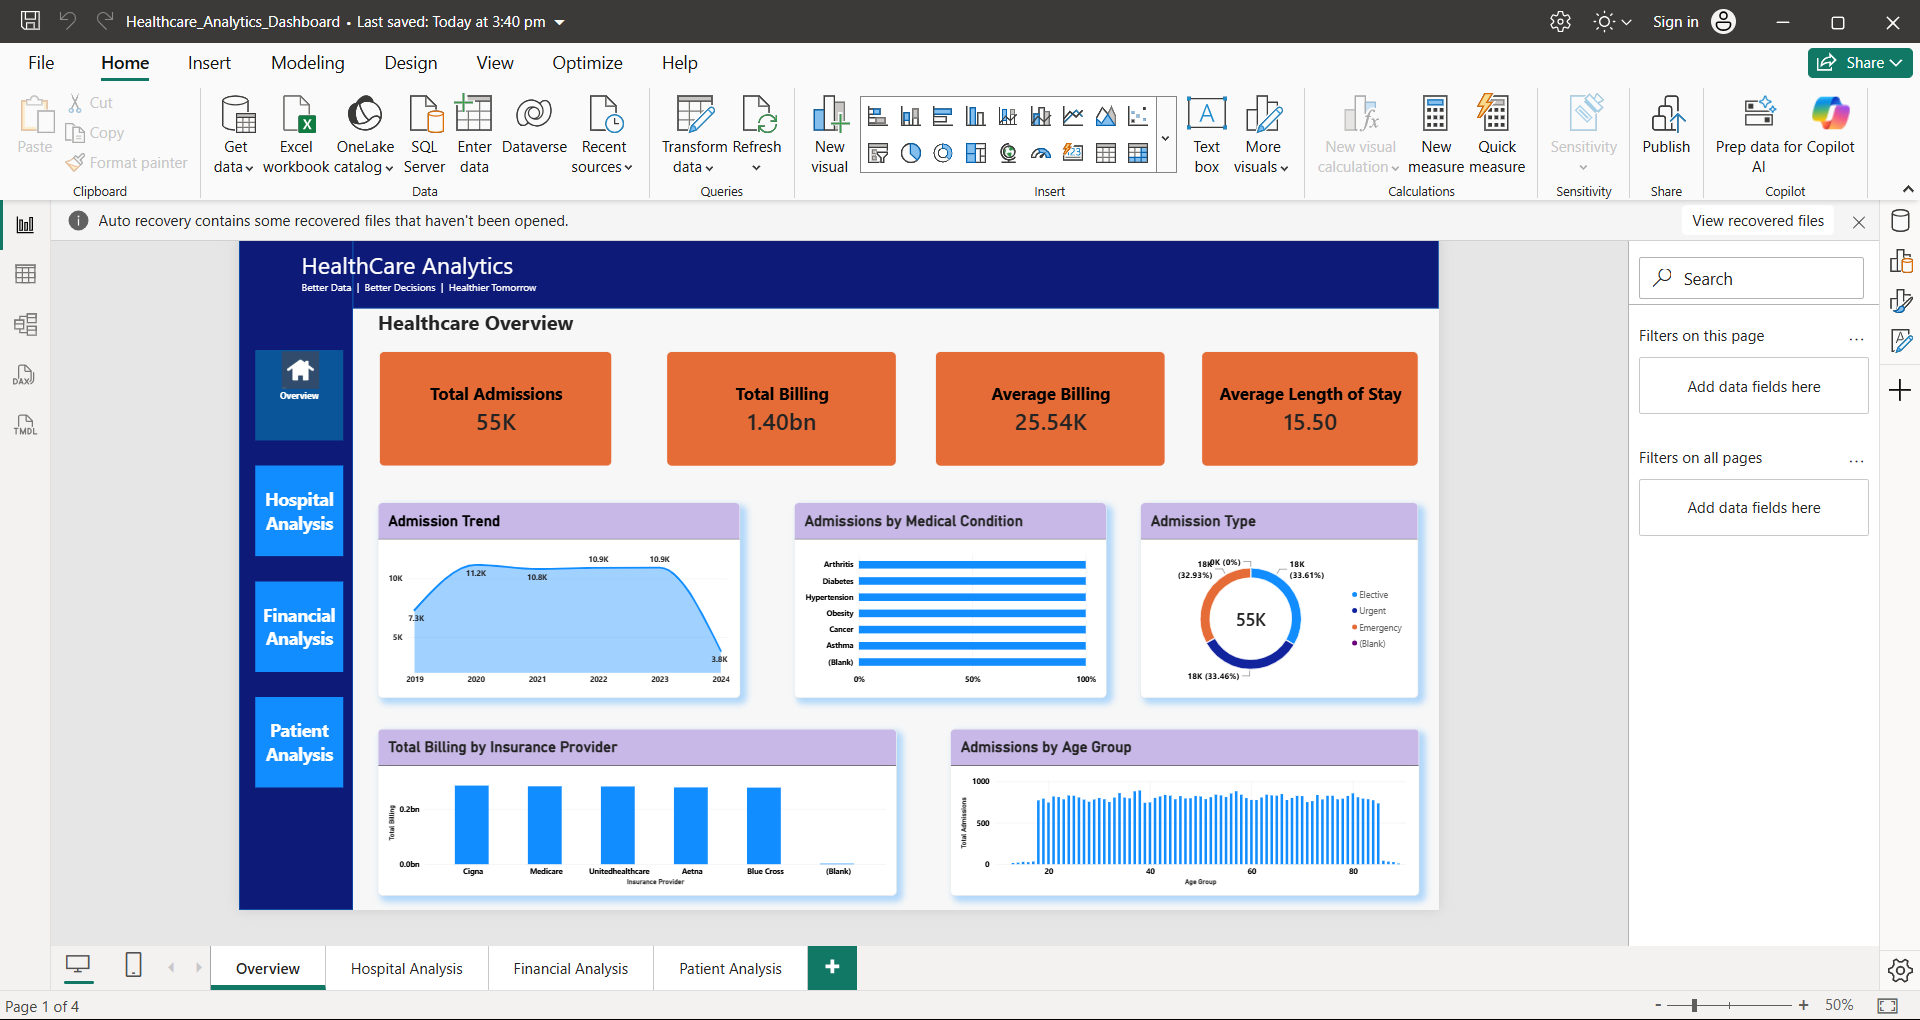

What the dashboard file says about the page in this screenshot:
{"tool":"powerbi","page":{"name":"Overview","canvas":[1920,1080],"ordinal":0},"visuals":[{"type":"shape","box":[0,0,182.5,1080],"z":0},{"type":"shape","box":[182.5,0,1737.5,117.5],"z":1000},{"type":"lineChart","title":"Admission Trend","fields":{"Category":["dim_Date.Admission_Year"],"Y":["dim_AdmissionType.Total Admissions"]},"box":[222.5,427.5,580,312.5],"z":6000},{"type":"hundredPercentStackedBarChart","title":"Admissions by Medical Condition","fields":{"Category":["dim_MedicalCondition.Medical Condition"],"Y":["dim_AdmissionType.Total Admissions"]},"box":[887.5,427.5,500,312.5],"z":7000},{"type":"donutChart","title":"Admission Type","fields":{"Category":["dim_AdmissionType.Admission Type"],"Y":["dim_AdmissionType.Total Admissions"]},"box":[1442.5,427.5,445,312.5],"z":8000},{"type":"clusteredColumnChart","title":"Total Billing by Insurance Provider","fields":{"Category":["dim_Insurance.Insurance Provider"],"Y":["dim_AdmissionType.Total Billing"]},"box":[222.5,790,830,267.5],"z":9000},{"type":"clusteredColumnChart","title":"Admissions by Age Group","fields":{"Category":["fact_Data.Age"],"Y":["dim_AdmissionType.Total Admissions"]},"box":[1137.5,790,750,267.5],"z":10000},{"type":"textbox","box":[222.5,117.5,375,67.5],"z":11000},{"type":"textbox","box":[100,22.5,387.5,50],"z":12000},{"type":"textbox","box":[100,72.5,412.5,45],"z":13000},{"type":"cardVisual","fields":{"Data":["dim_AdmissionType.Total Admissions"]},"box":[224.3,186.9,373.8,184.2],"z":14000},{"type":"cardVisual","fields":{"Data":["dim_AdmissionType.Total Billing"]},"box":[683.4,186.9,368.4,184.2],"z":15000},{"type":"cardVisual","fields":{"Data":["dim_AdmissionType.Average Billing"]},"box":[1113.3,186.9,368.4,184.2],"z":16000},{"type":"cardVisual","fields":{"Data":["dim_AdmissionType.Average Length of Stay"]},"box":[1540.4,186.9,347.1,184.2],"z":17000},{"type":"pageNavigator","box":[26.7,184.2,141.5,702.1],"z":18000},{"type":"image","box":[45.4,186.9,104.5,59.7],"z":18002}]}

Visuals, with their boxes on the page's 1920x1080 design canvas (x1, y1, x2, y2). These are canvas units, not pixel positions in the 1920x1020 screenshot, which may show the page scaled, cropped or inside an application window:
shape: <box>0,0,182,1080</box>
shape: <box>182,0,1920,118</box>
"Admission Trend" lineChart: <box>222,428,802,740</box>
"Admissions by Medical Condition" hundredPercentStackedBarChart: <box>888,428,1388,740</box>
"Admission Type" donutChart: <box>1442,428,1888,740</box>
"Total Billing by Insurance Provider" clusteredColumnChart: <box>222,790,1052,1058</box>
"Admissions by Age Group" clusteredColumnChart: <box>1138,790,1888,1058</box>
textbox: <box>222,118,598,185</box>
textbox: <box>100,22,488,72</box>
textbox: <box>100,72,512,118</box>
cardVisual - dim_AdmissionType.Total Admissions: <box>224,187,598,371</box>
cardVisual - dim_AdmissionType.Total Billing: <box>683,187,1052,371</box>
cardVisual - dim_AdmissionType.Average Billing: <box>1113,187,1482,371</box>
cardVisual - dim_AdmissionType.Average Length of Stay: <box>1540,187,1888,371</box>
pageNavigator: <box>27,184,168,886</box>
image: <box>45,187,150,247</box>
